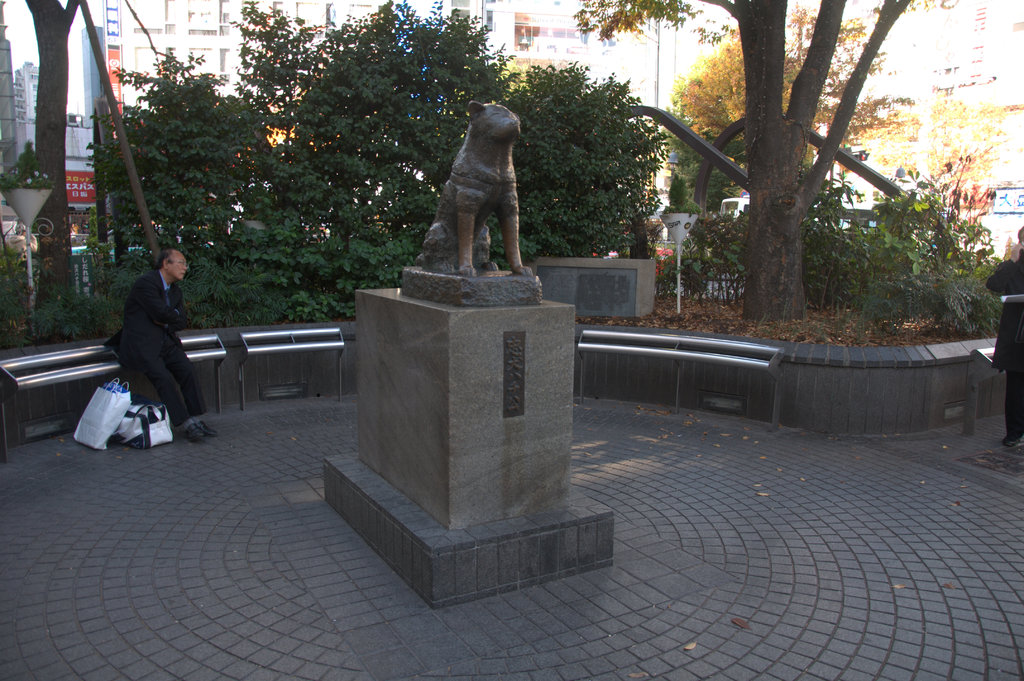Tree: (0, 1, 1018, 366)
